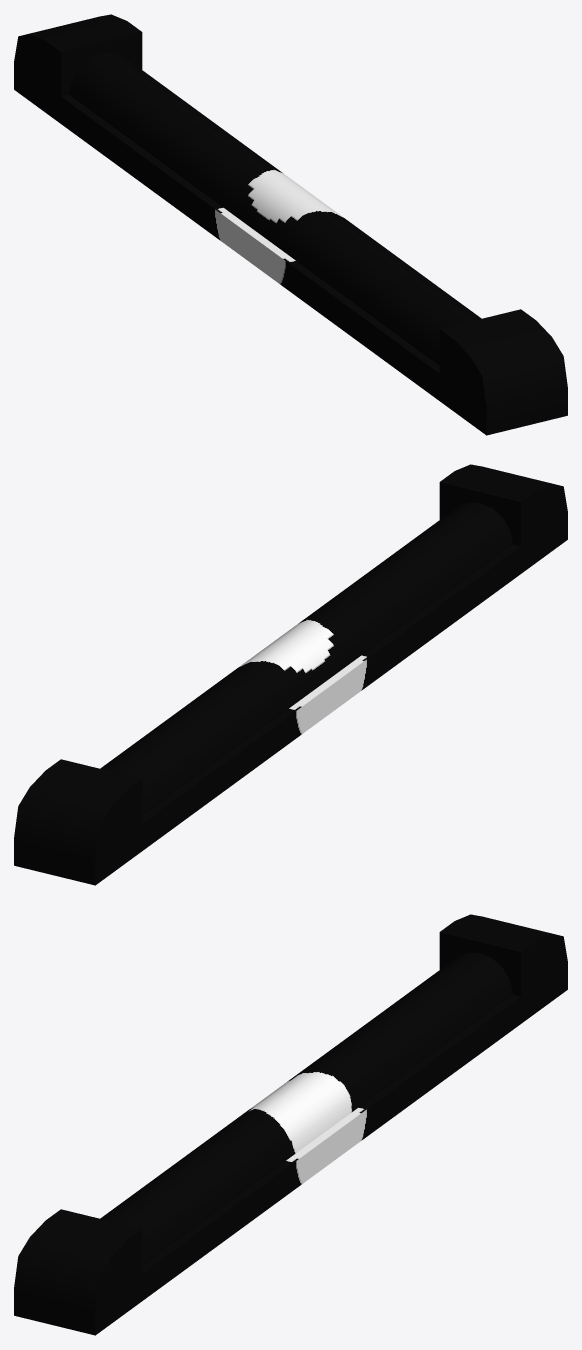
The model's file is SingleNeon.fbx.
3 views of the same model, one above another, from view 1: azimuth 30°, elevation 25°; view 2: azimuth 150°, elevation 25°; view 3: azimuth 330°, elevation 25° (orthographic).
Visible parts, largest first — view 1: SINGLE_NEON_STRUCT, SINGLE_NEON; view 2: SINGLE_NEON_STRUCT, SINGLE_NEON; view 3: SINGLE_NEON_STRUCT, SINGLE_NEON.
Part boxes in pixels (bbox=[...]): SINGLE_NEON_STRUCT: bbox=[14, 14, 567, 435]; SINGLE_NEON: bbox=[69, 52, 481, 365]; SINGLE_NEON_STRUCT: bbox=[14, 464, 567, 885]; SINGLE_NEON: bbox=[100, 502, 512, 815]; SINGLE_NEON_STRUCT: bbox=[14, 914, 567, 1335]; SINGLE_NEON: bbox=[100, 952, 512, 1265].
Bounding box in the file's own units: 0.25 × 2.51 × 0.2113.
